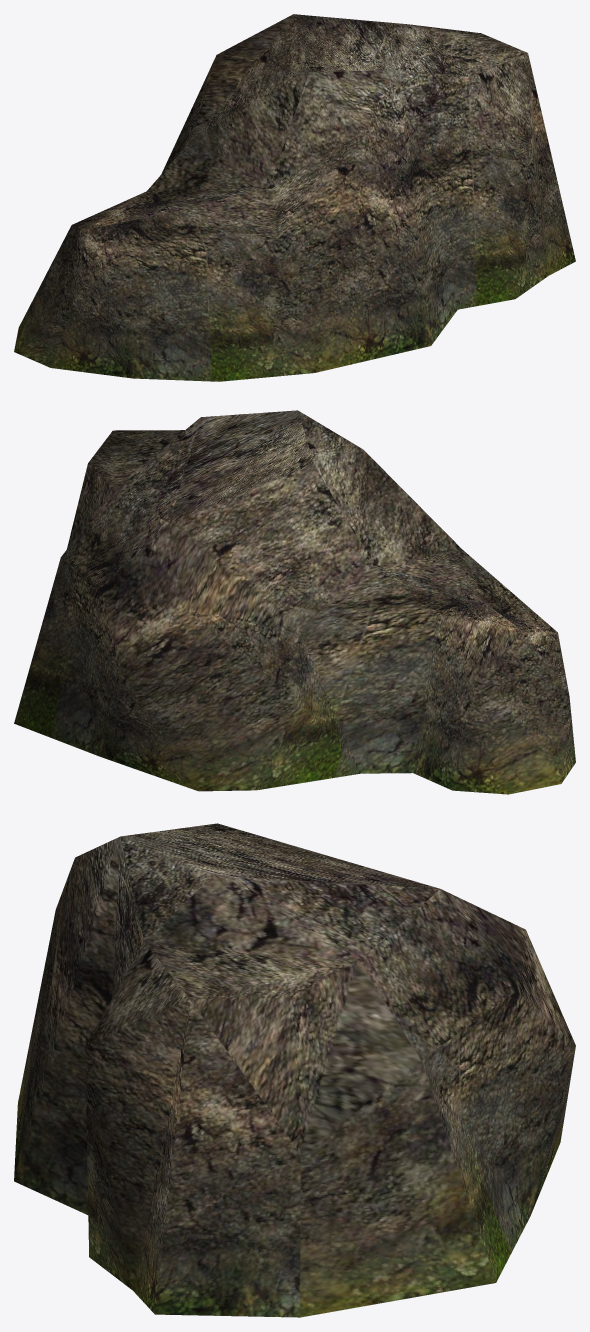
Rendered from stone_field01.glb.
3 views of the same model, one above another, from view 1: azimuth 30°, elevation 25°; view 2: azimuth 150°, elevation 25°; view 3: azimuth 270°, elevation 25° (orthographic). The views are drawn at different scales.
Visible parts, largest first — view 1: stone_field01; view 2: stone_field01; view 3: stone_field01.
Boxes of the visible parts, x1=… form: stone_field01: x1=14, y1=14, x2=575, y2=381; stone_field01: x1=14, y1=410, x2=575, y2=794; stone_field01: x1=14, y1=823, x2=575, y2=1317.
Bounding box in the file's own units: 53.83 × 24.82 × 36.15.
Materials: 1 (1 with a texture image).
